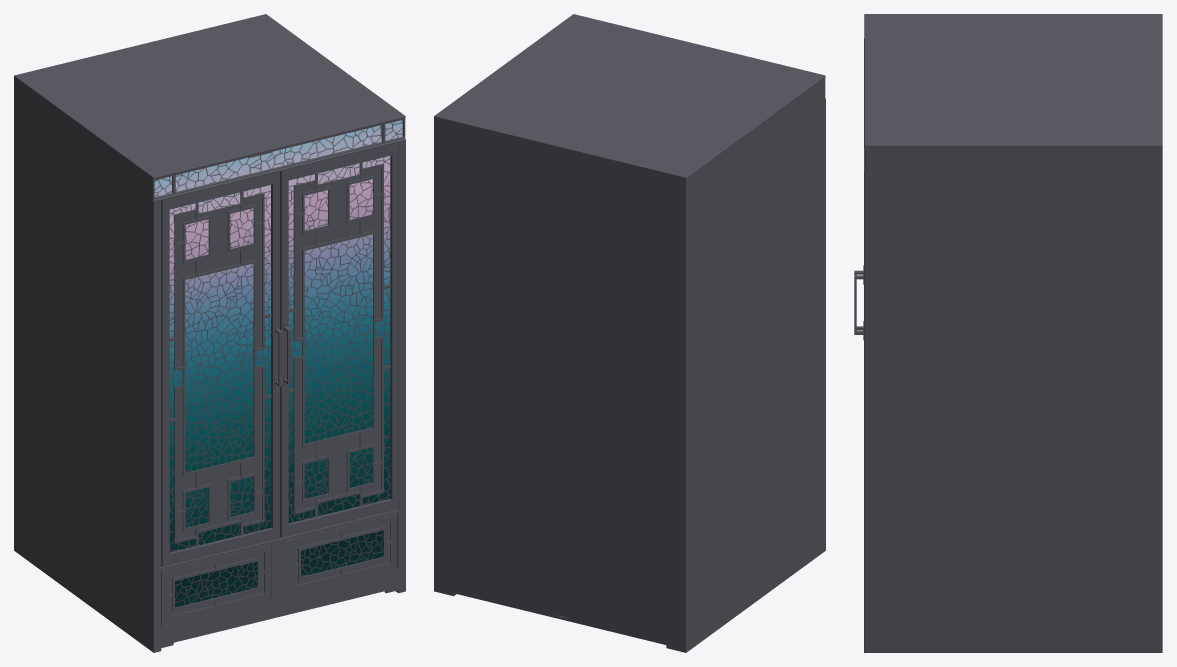
The model's file is cabinet.fbx.
3 renders of one model, left to right at view 1: azimuth 30°, elevation 25°; view 2: azimuth 150°, elevation 25°; view 3: azimuth 270°, elevation 25°, orthographic. The views are drawn at different scales.
Parts seen in each view (by area): view 1: cabinet.007; view 2: cabinet.007; view 3: cabinet.007.
Part boxes in pixels (bbox=[...]): cabinet.007: bbox=[14, 14, 405, 652]; cabinet.007: bbox=[434, 14, 825, 652]; cabinet.007: bbox=[854, 14, 1162, 652].
Bounding box in the file's own units: 100 × 180 × 99.02.
Materials: 1 (1 with a texture image).
